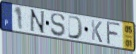1: (13, 6, 24, 32)
D: (67, 15, 84, 41)
F: (106, 21, 122, 46)
K: (91, 19, 103, 45)
N: (29, 8, 46, 35)
S: (50, 13, 66, 38)
